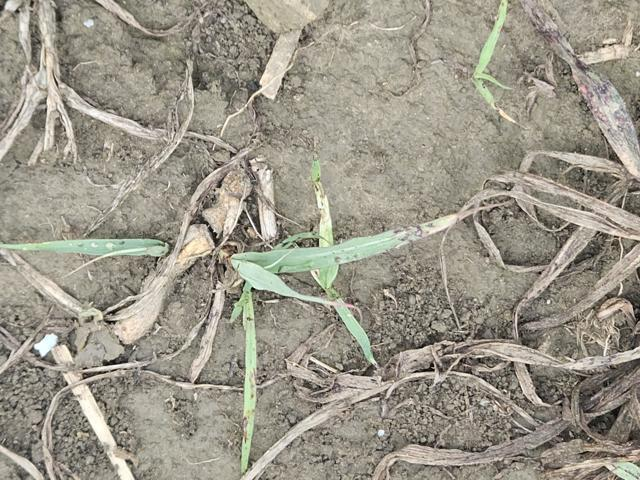bad weed: (182, 197, 467, 465), (5, 221, 171, 288), (460, 21, 535, 128)
